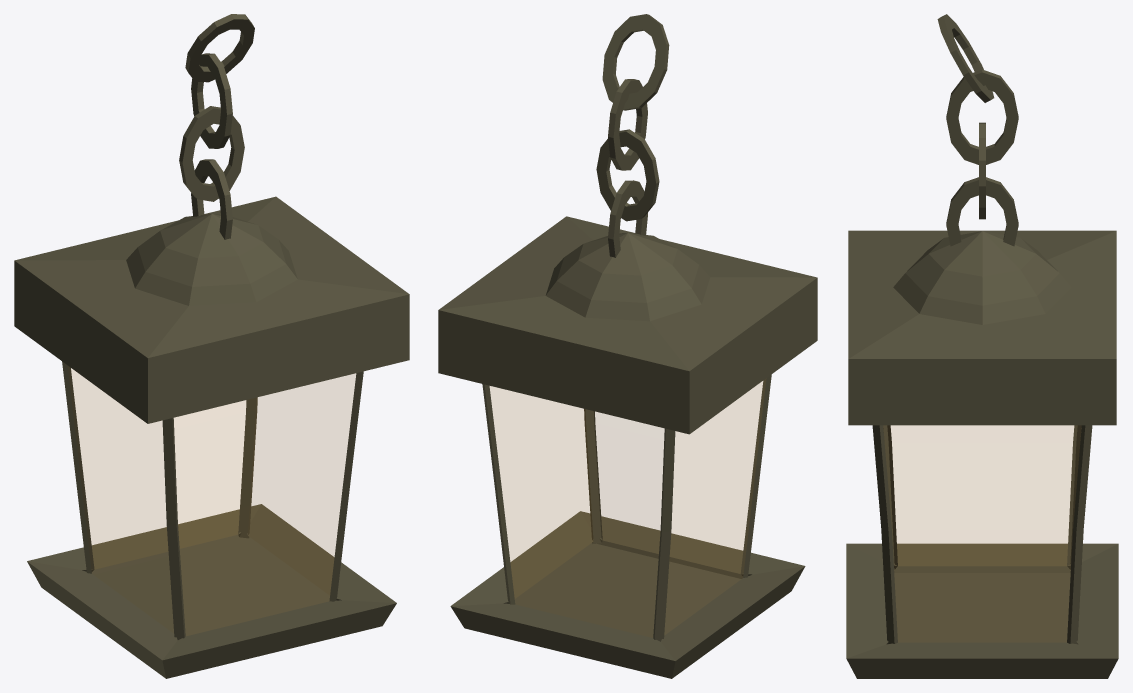
Rendered from farollillo.glb.
3 renders of one model, left to right at view 1: azimuth 30°, elevation 25°; view 2: azimuth 150°, elevation 25°; view 3: azimuth 270°, elevation 25°, orthographic. The views are drawn at different scales.
Parts seen in each view (by area): view 1: Cube; view 2: Cube; view 3: Cube.
Part boxes in pixels (left/top/right/bottom): Cube: left=14, top=14, right=409, bottom=678; Cube: left=438, top=14, right=817, bottom=678; Cube: left=846, top=14, right=1118, bottom=678.
Size of the model in its own units: 1.34 by 2.98 by 1.2.
